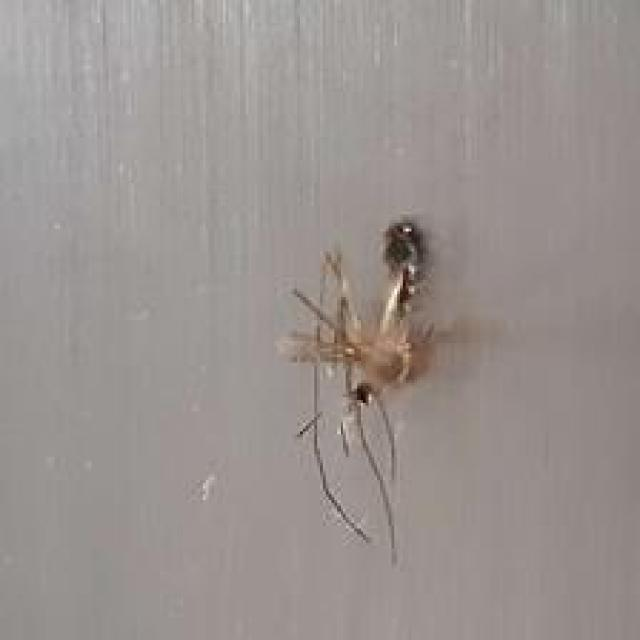Culex: (274, 219, 437, 564)
